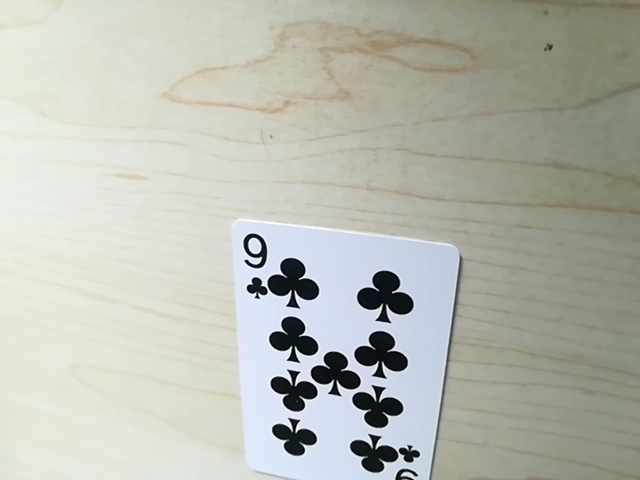mh 9: (236, 223, 268, 304)
